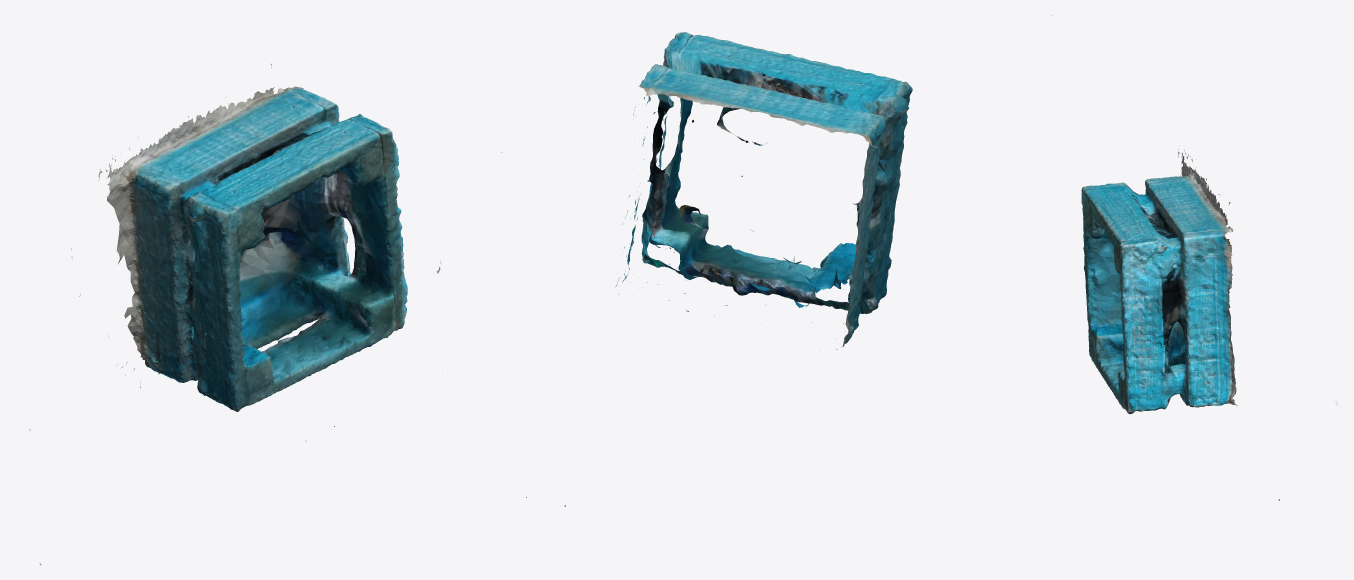
The model's file is prac5.glb.
3 views of the same model, side by side, from view 1: azimuth 30°, elevation 25°; view 2: azimuth 150°, elevation 25°; view 3: azimuth 270°, elevation 25° (orthographic). The views are drawn at different scales.
Size of the model in its own units: 18.85 by 19.27 by 11.07.
Materials: 1 (1 with a texture image).
